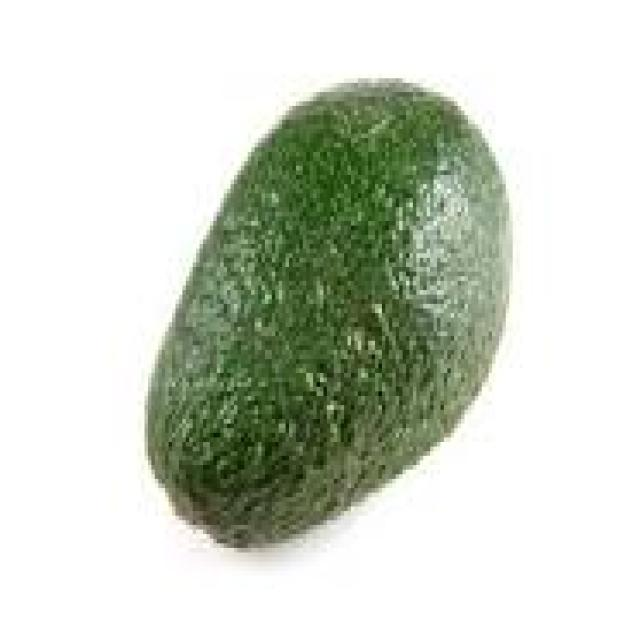avocado: (131, 60, 523, 557)
